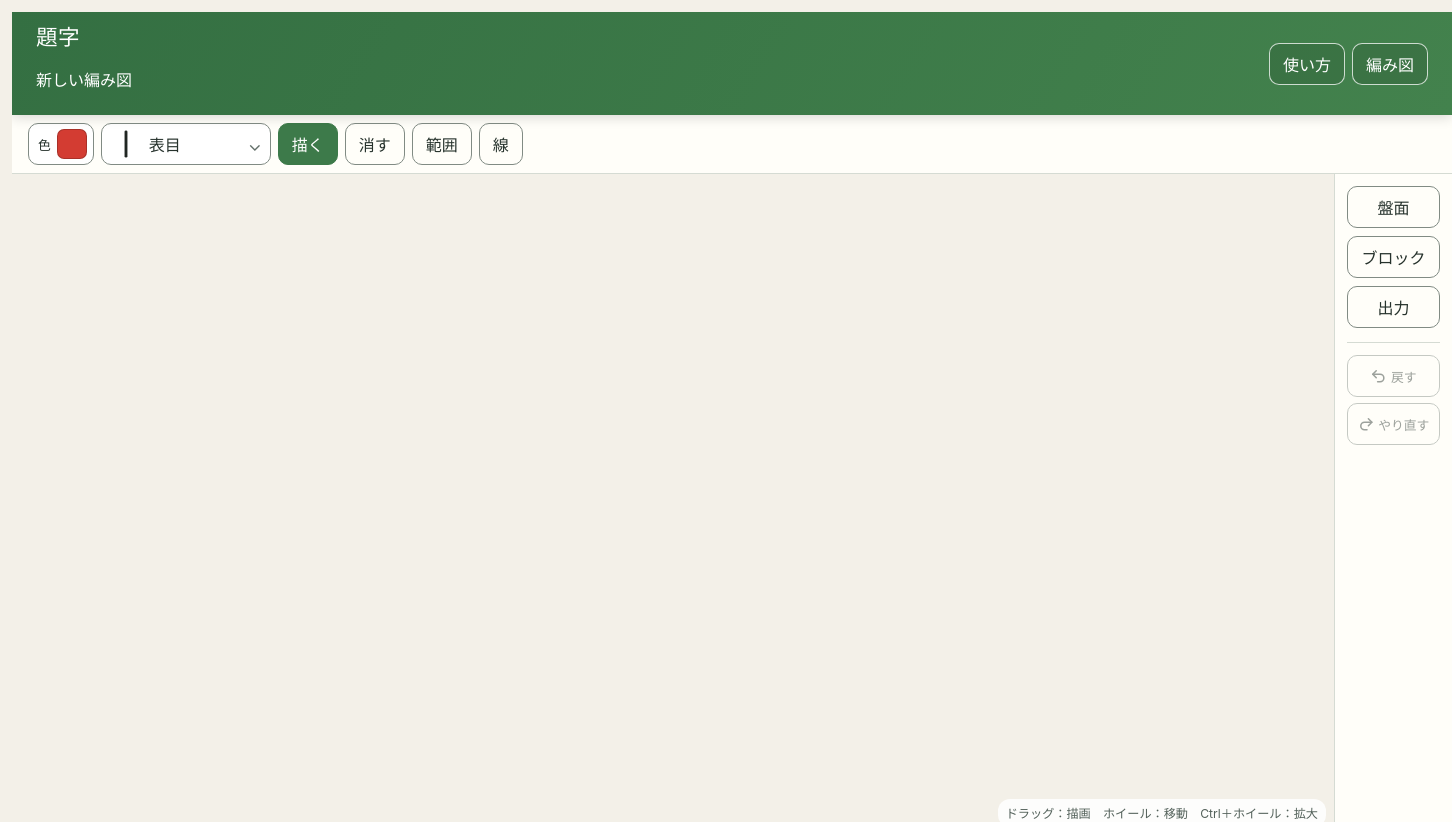
it: EditorView › switches the canvas mode from the tool buttons
The image size is (1452, 822).
Click the button "線": (501, 144) x1=479 y1=123 x2=523 y2=165
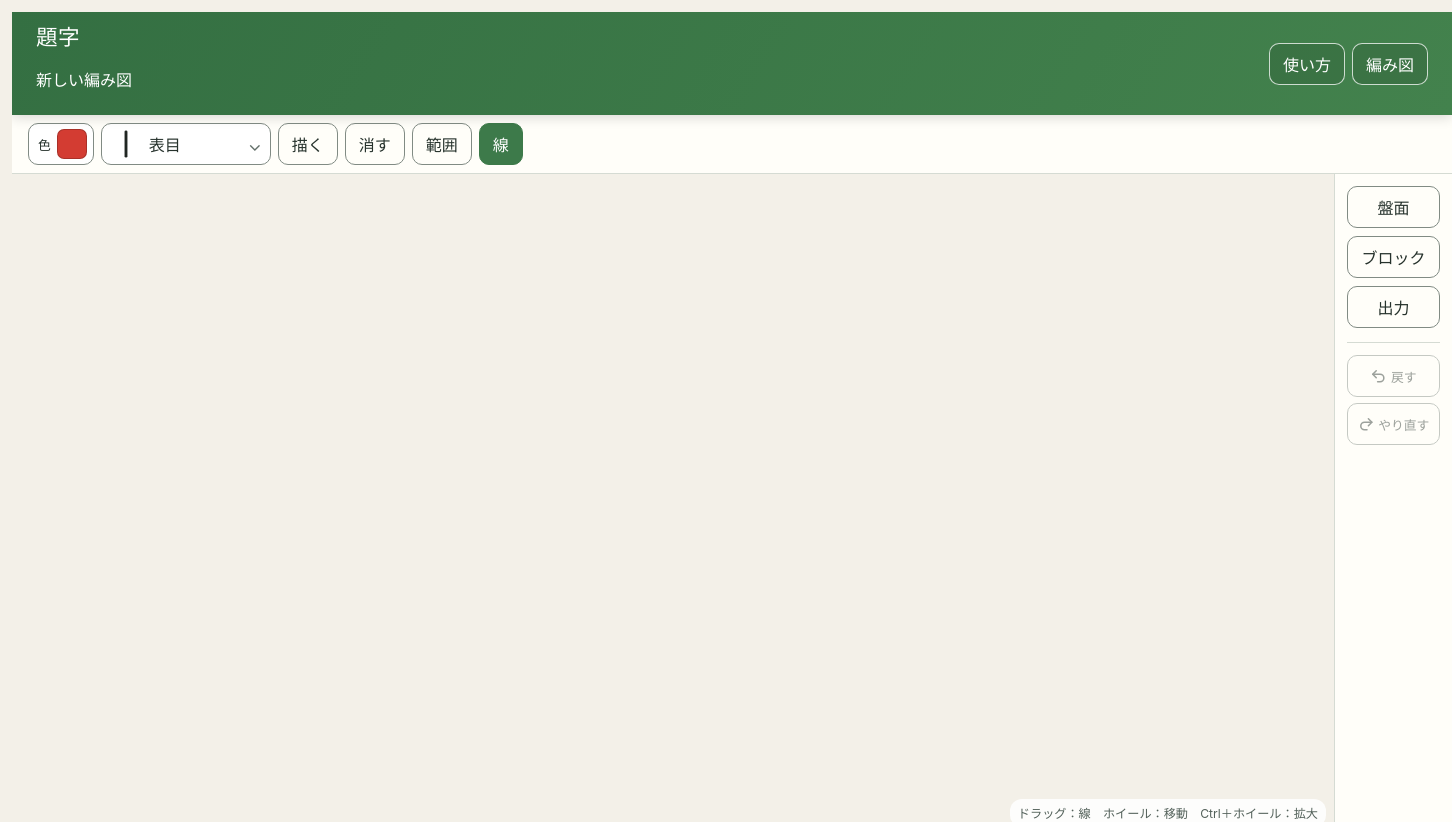
Expected: the text with class "gesture-hint" shows "ドラッグ：線", x1=1018 y1=806 x2=1318 y2=821
Click the button "消す": (375, 144) x1=345 y1=123 x2=405 y2=165
(page scrolled)
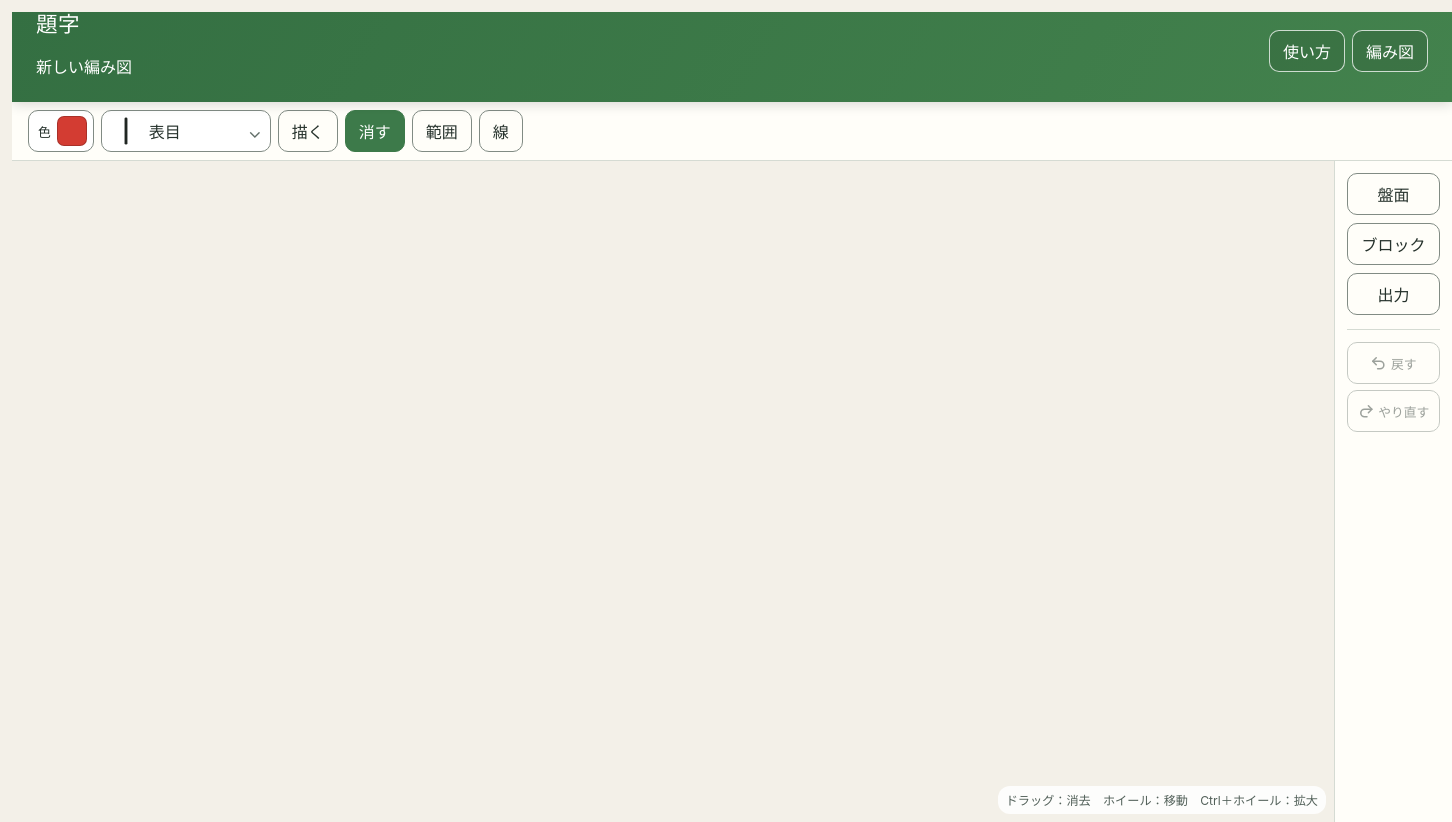
Expected: the text with class "gesture-hint" reads "ドラッグ：消去 ホイール：移動 Ctrl＋ホイール：拡大", x1=1006 y1=793 x2=1318 y2=808
